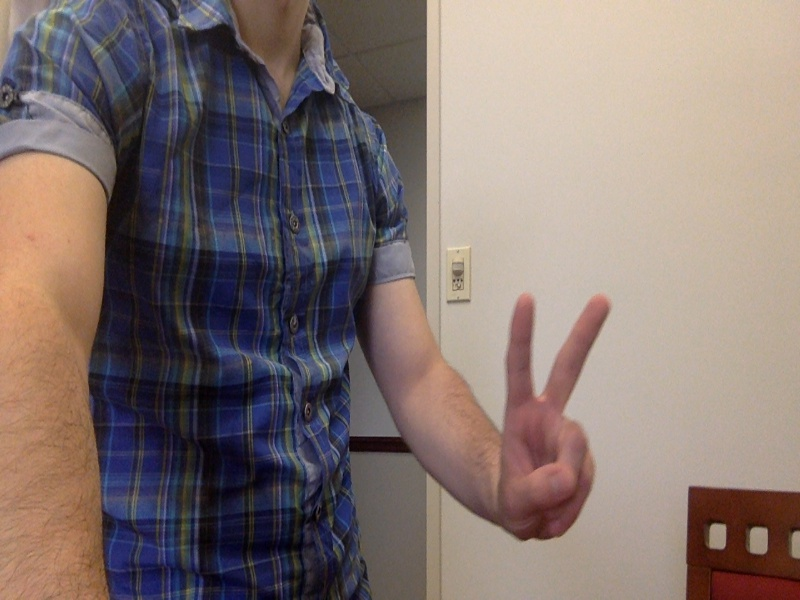2-hand: (495, 294, 619, 543)
